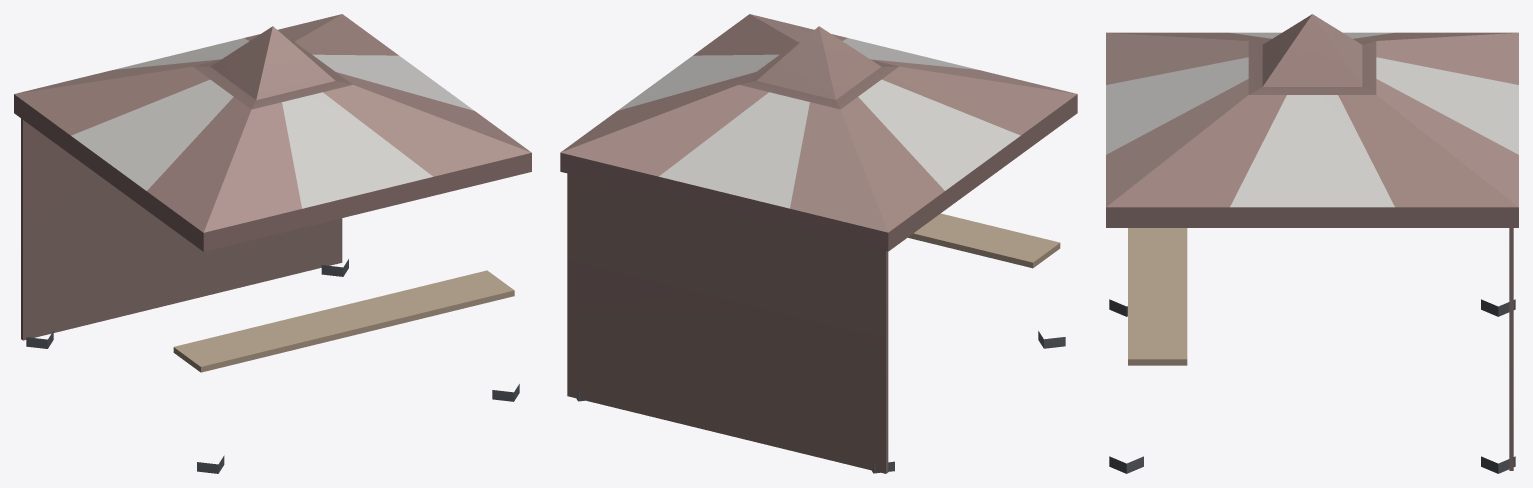
The model's file is tent.lod2.glb.
3 renders of one model, left to right at view 1: azimuth 30°, elevation 25°; view 2: azimuth 150°, elevation 25°; view 3: azimuth 270°, elevation 25°, orthographic. The views are drawn at different scales.
Bounding box in the file's own units: 3.6 × 3.6 × 3.6.
